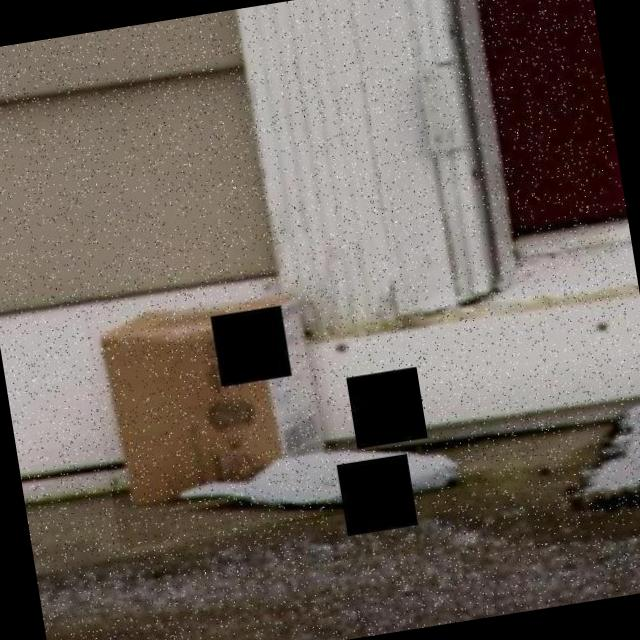box: (83, 277, 348, 550)
